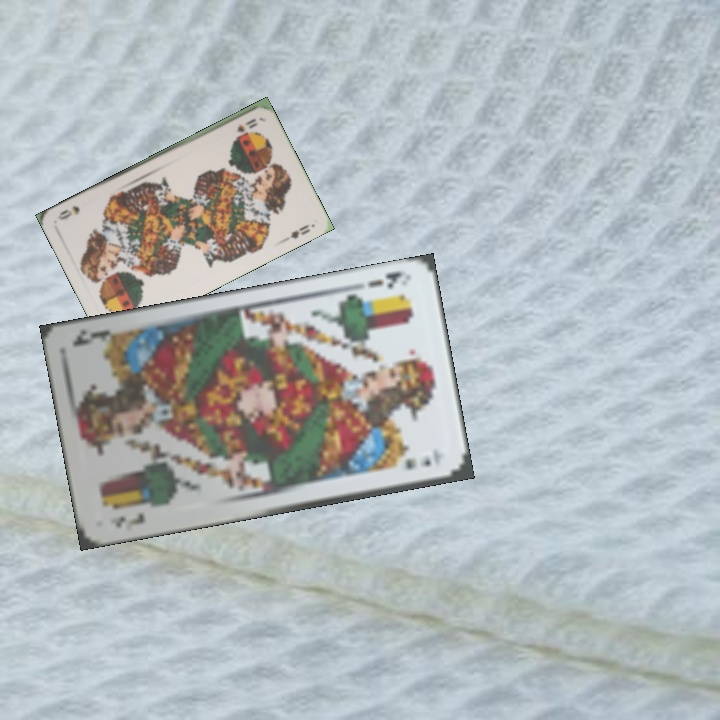EK: (364, 267, 410, 292), (106, 508, 148, 533)
SO: (232, 114, 259, 135)
